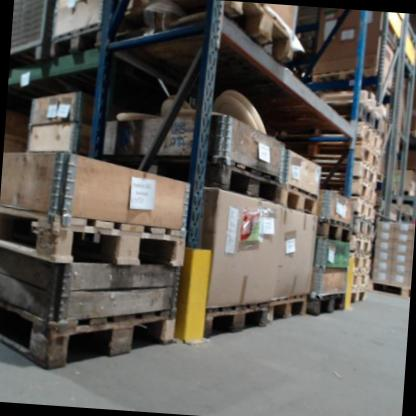pallet: (0, 298, 177, 378), (0, 205, 188, 273), (102, 150, 282, 206), (220, 1, 297, 66), (203, 298, 269, 344), (49, 20, 112, 65), (314, 63, 377, 93), (279, 180, 321, 218), (266, 293, 309, 328), (315, 215, 353, 243), (308, 291, 346, 317), (369, 281, 411, 300), (356, 141, 380, 173), (353, 163, 378, 192), (354, 182, 379, 207), (356, 127, 381, 150), (353, 217, 374, 241), (352, 271, 370, 292), (354, 239, 372, 259), (354, 205, 378, 219), (351, 291, 369, 306), (353, 257, 371, 272)
stillage: (9, 0, 59, 79)
